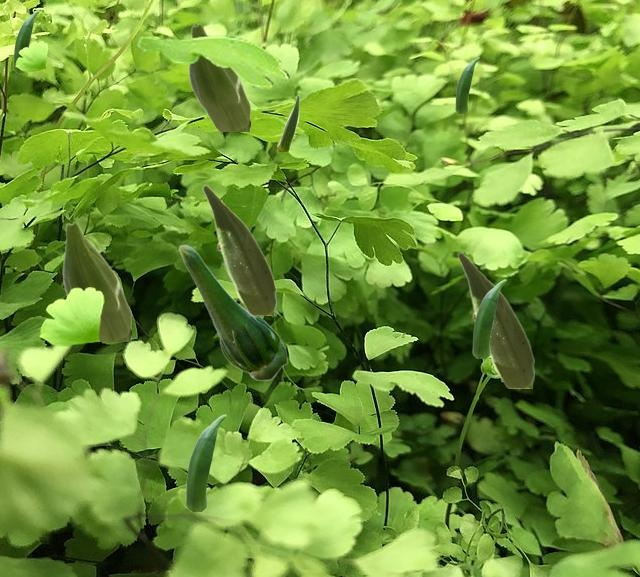okra: (178, 244, 287, 380), (457, 251, 533, 387), (202, 184, 275, 314), (62, 221, 130, 340), (188, 23, 249, 130), (185, 414, 225, 510), (472, 279, 505, 357), (13, 10, 38, 71), (455, 57, 478, 112), (277, 95, 298, 150)
